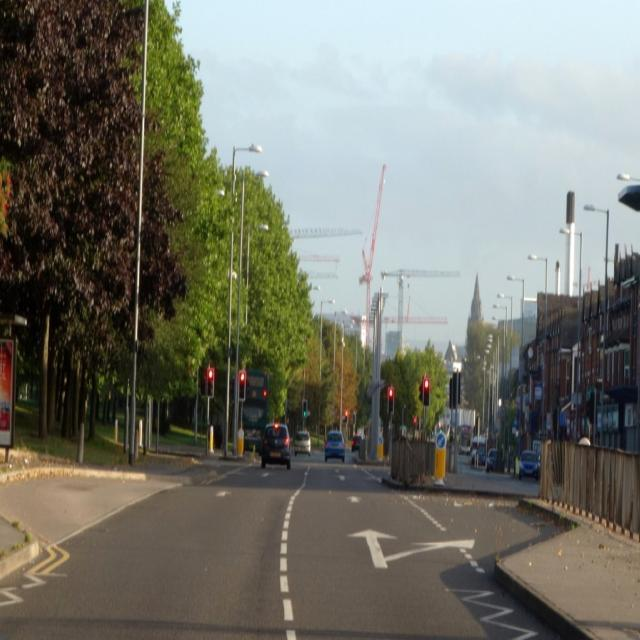traffic light: (238, 371, 246, 400), (207, 367, 214, 397), (388, 388, 395, 414), (424, 378, 430, 405)
